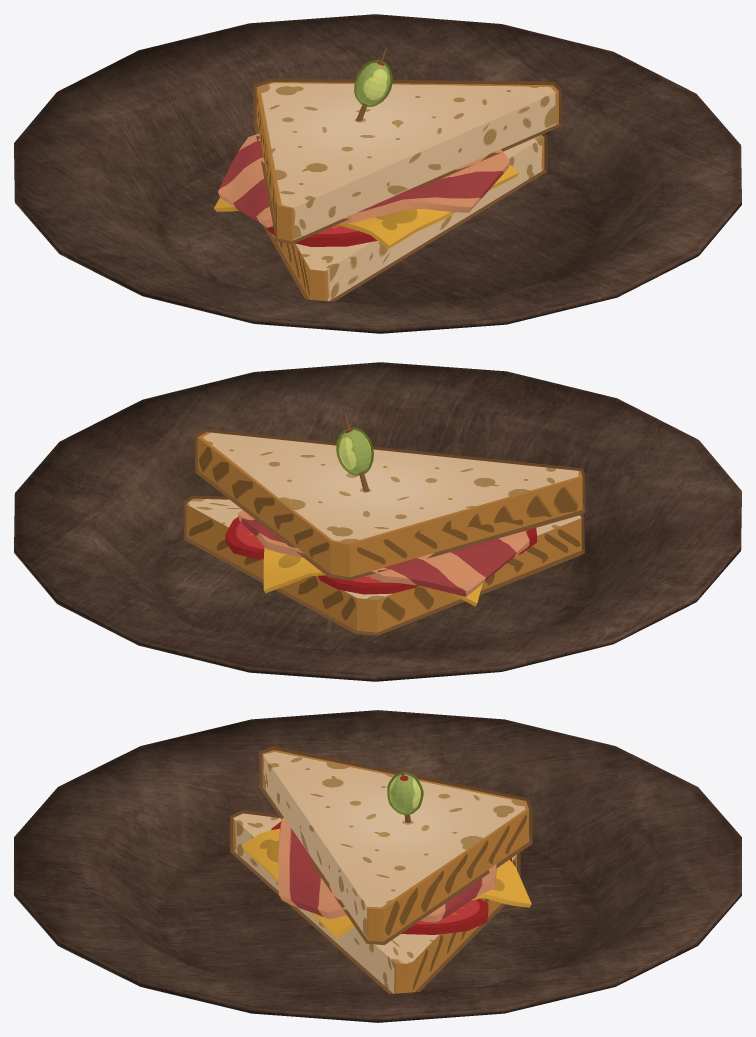
File: SandwichAndPlate.glb
The picture shows the model from 3 angles, top to bottom: view 1: azimuth 30°, elevation 25°; view 2: azimuth 150°, elevation 25°; view 3: azimuth 270°, elevation 25°; orthographic projection.
Visible parts, largest first — view 1: Plate, Sandwich; view 2: Plate, Sandwich; view 3: Plate, Sandwich.
Boxes of the visible parts, <box> form: Plate: <box>14,14,741,333</box>; Sandwich: <box>214,47,561,301</box>; Plate: <box>14,362,741,681</box>; Sandwich: <box>184,413,585,635</box>; Plate: <box>14,710,741,1022</box>; Sandwich: <box>230,746,532,993</box>.
Bounding box in the file's own units: 0.3 × 0.0764 × 0.3.
4 materials, 2 textured.
